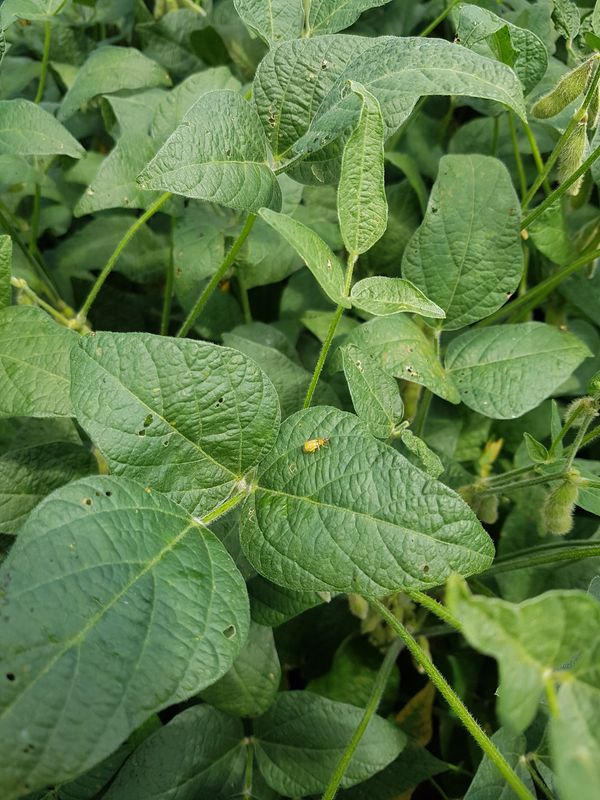Diabrotica_speciosa: (296, 432, 333, 458)
